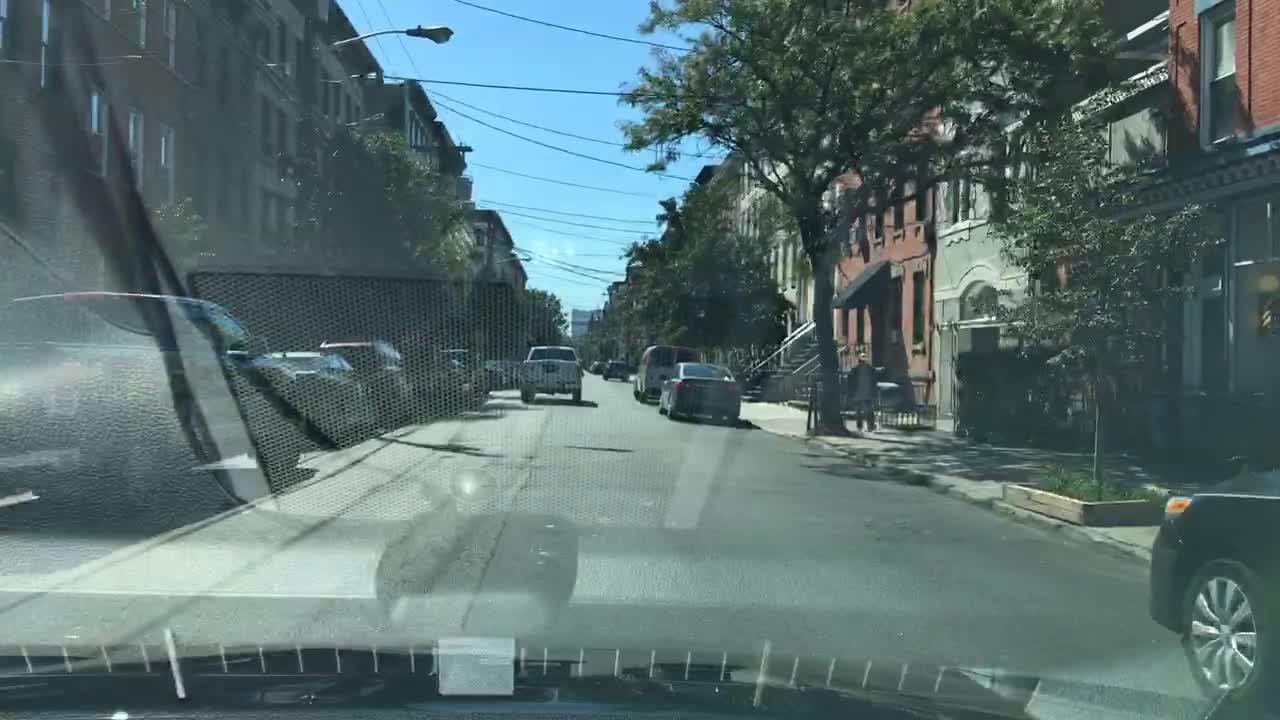car: (1144, 482, 1279, 710), (270, 349, 368, 435), (324, 337, 415, 420), (656, 361, 742, 427), (400, 341, 469, 408), (631, 344, 698, 403), (432, 347, 486, 401), (482, 359, 509, 390), (600, 358, 627, 383), (504, 356, 523, 386), (589, 359, 606, 374)
person: (843, 353, 881, 430)
truck: (0, 292, 303, 515), (516, 344, 584, 408)
